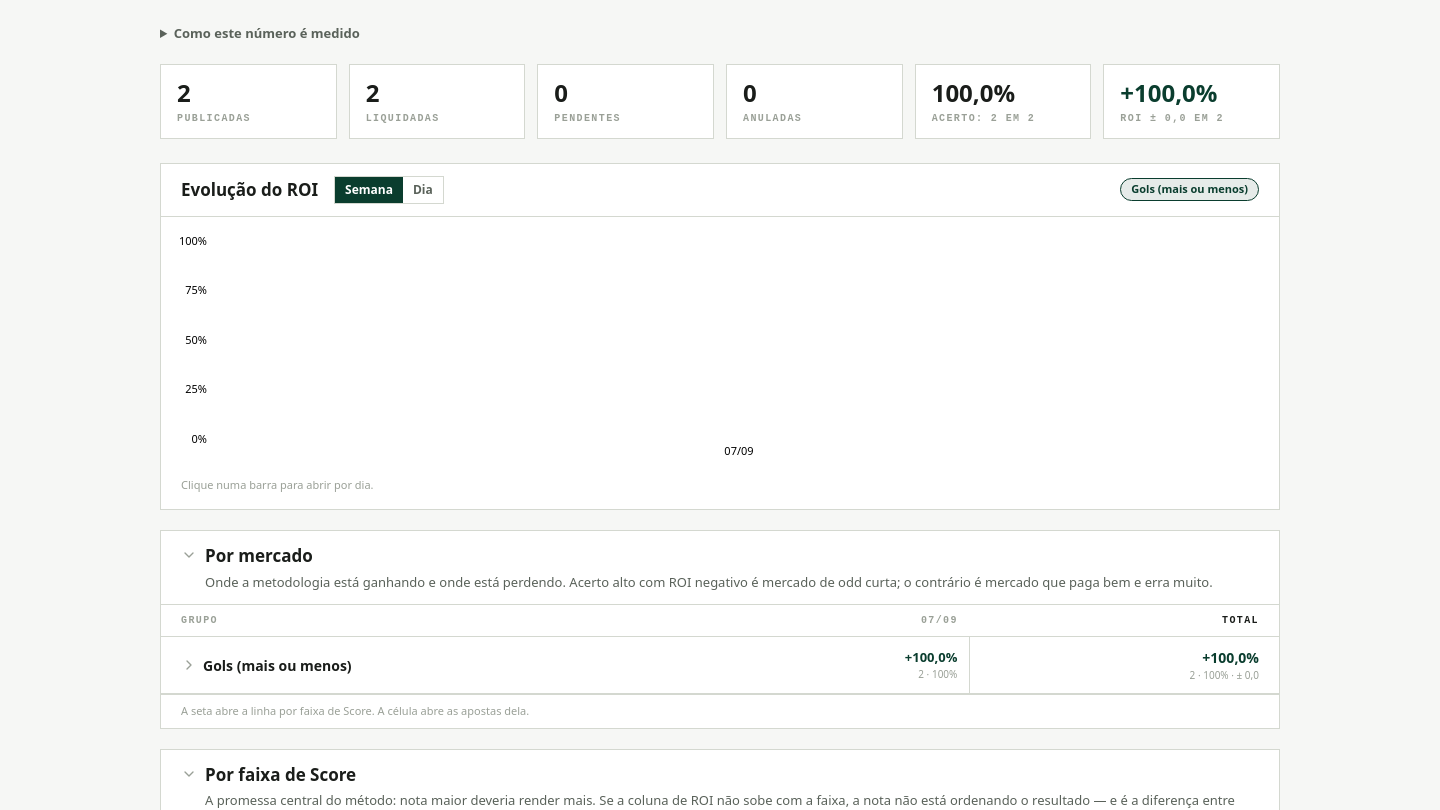
Scenario: o desdobramento dentro da linha › e a célula do desdobramento também abre as apostas
The width and height of the screenshot is (1440, 810).
Click the button named "Abrir Gols (mais ou menos) por faixa de Score": (189,665) [181, 657, 197, 673]
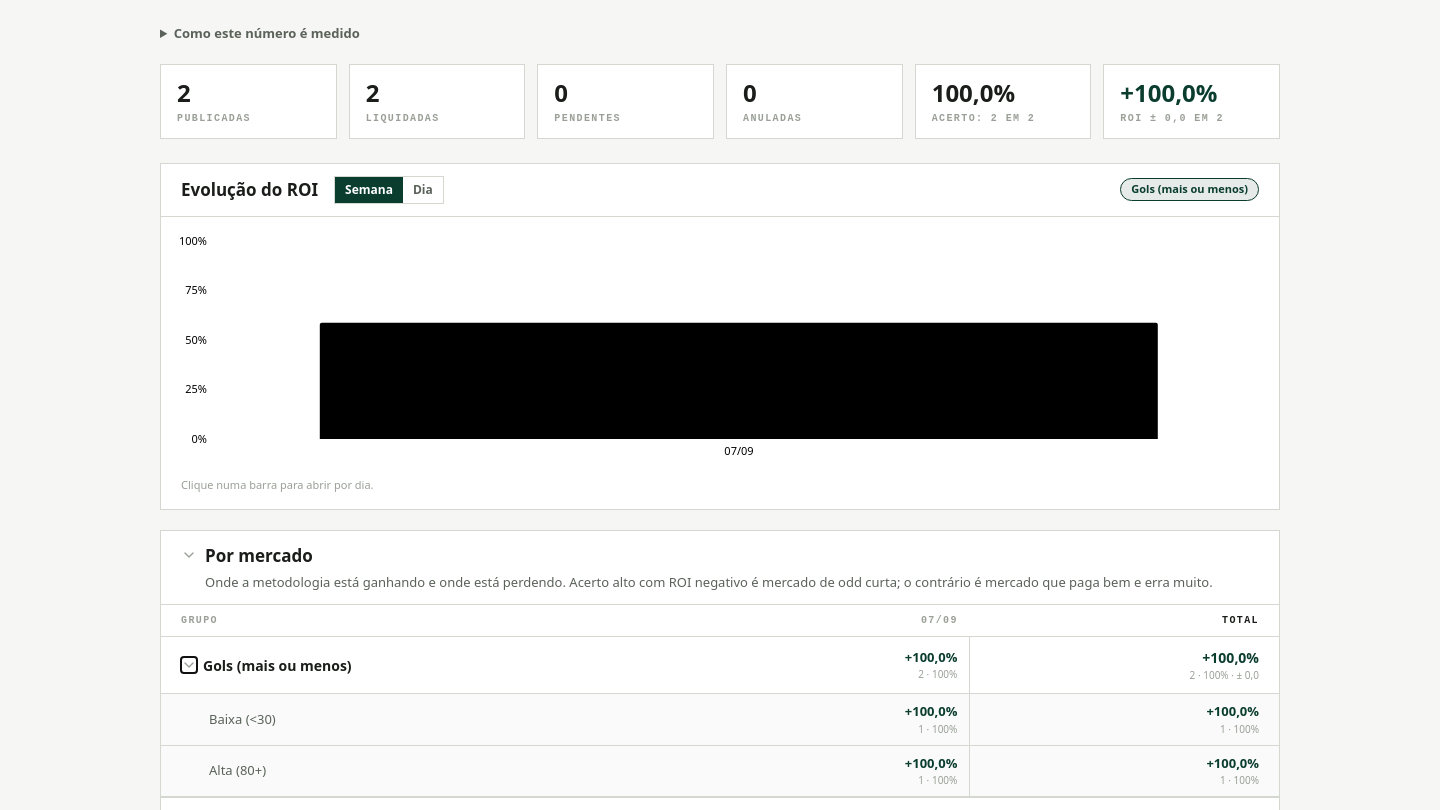
Click the 4th cell "+100,0% 1 · 100%": (1124,771) [970, 745, 1279, 796]
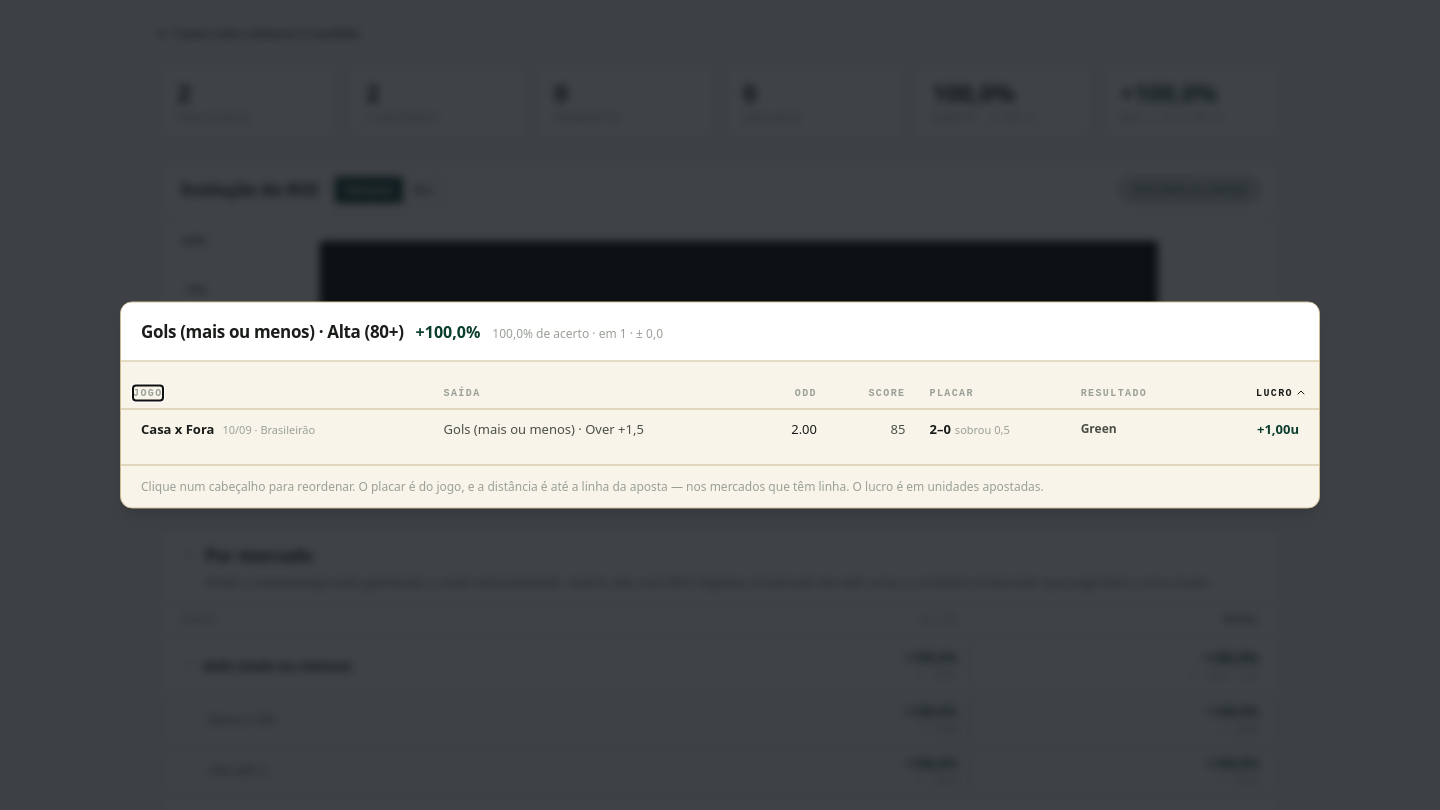
Check: the dialog shows "Alta (80+)", box [141, 320, 404, 342]
